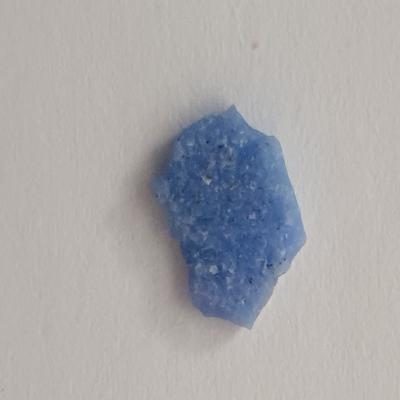plastic: (140, 99, 316, 329)
